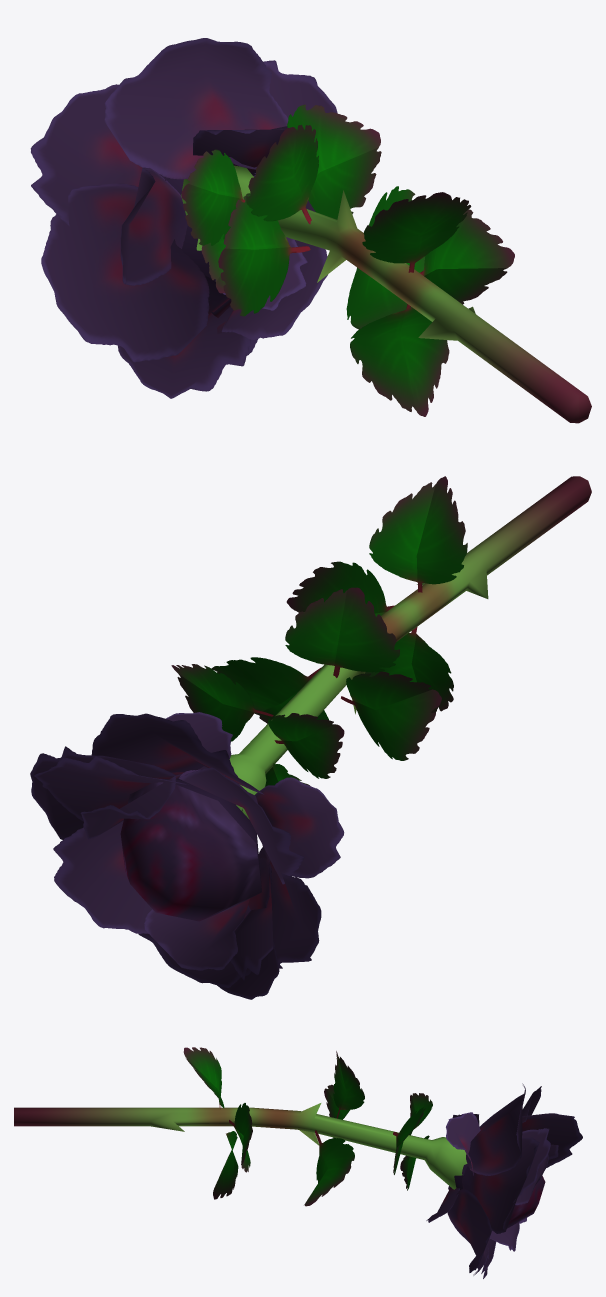
File: SM_Rose_Black_WideOpen.fbx
3 views of the same model, one above another, from view 1: azimuth 30°, elevation 25°; view 2: azimuth 150°, elevation 25°; view 3: azimuth 270°, elevation 25° (orthographic). The views are drawn at different scales.
Parts seen in each view (by area): view 1: Rose_Black_WideOpen; view 2: Rose_Black_WideOpen; view 3: Rose_Black_WideOpen.
Part boxes in pixels (x1,y1,x2,y2): Rose_Black_WideOpen: (30,38,591,423); Rose_Black_WideOpen: (30,476,591,999); Rose_Black_WideOpen: (14,1047,582,1278).
Bounding box in the file's own units: 52.56 × 59.81 × 130.
